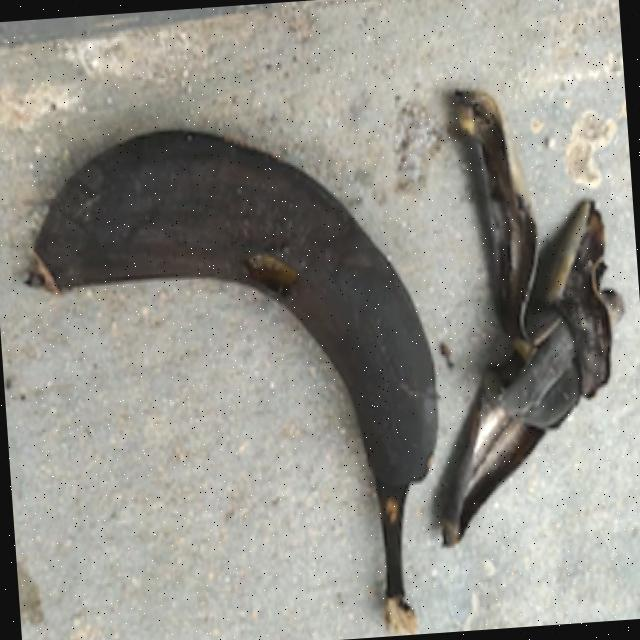rotten banana: (28, 21, 614, 638)
